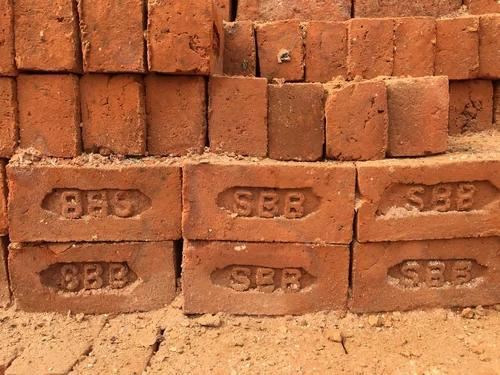brick: (8, 166, 181, 243), (183, 166, 357, 238), (183, 242, 351, 316), (6, 243, 174, 315), (357, 160, 499, 241), (351, 238, 496, 314), (324, 81, 392, 159), (18, 74, 81, 158), (390, 77, 450, 158), (80, 76, 142, 152), (207, 78, 268, 154), (149, 0, 212, 72), (270, 84, 326, 160), (14, 0, 74, 70), (83, 1, 143, 70), (148, 76, 201, 154), (391, 18, 438, 76), (307, 22, 351, 82), (351, 16, 392, 79), (256, 21, 302, 77), (451, 80, 493, 140), (236, 0, 351, 21), (439, 21, 479, 79), (223, 23, 255, 77), (359, 0, 458, 15), (482, 15, 500, 77)
